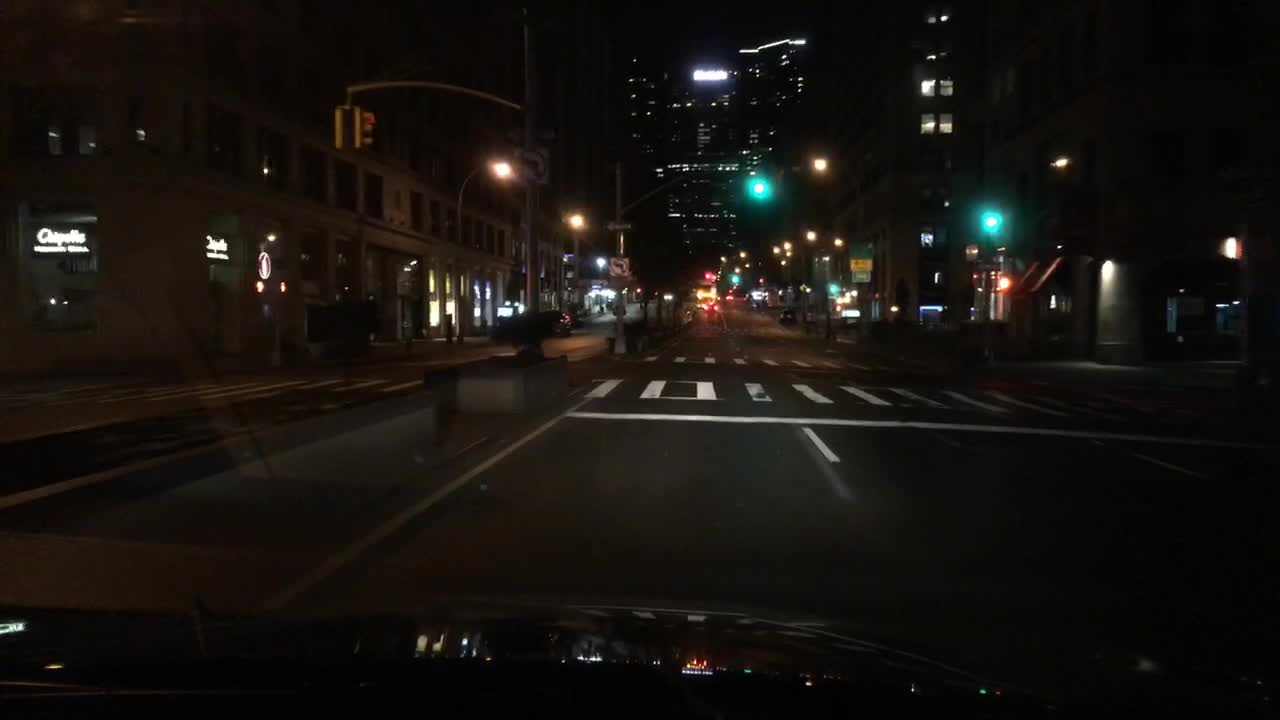car: (493, 310, 541, 344), (540, 308, 571, 341), (776, 308, 797, 326), (742, 295, 760, 310), (731, 290, 748, 305), (610, 302, 628, 316), (703, 302, 718, 317), (661, 290, 677, 302), (694, 296, 706, 310), (706, 299, 718, 311), (724, 290, 734, 302)
person: (802, 305, 820, 338), (820, 310, 835, 341), (442, 316, 453, 344), (595, 299, 606, 317), (758, 293, 769, 311), (636, 298, 646, 314), (603, 299, 612, 314)
traffic light: (352, 104, 375, 154), (332, 103, 352, 151), (983, 212, 999, 230), (749, 179, 767, 194), (996, 275, 1011, 290), (826, 281, 839, 295), (727, 275, 740, 284)
traffic sign: (508, 148, 547, 187), (502, 125, 562, 146), (847, 245, 874, 271), (607, 254, 630, 280), (970, 260, 1004, 275), (604, 220, 633, 233), (851, 269, 871, 284), (796, 281, 806, 295)
